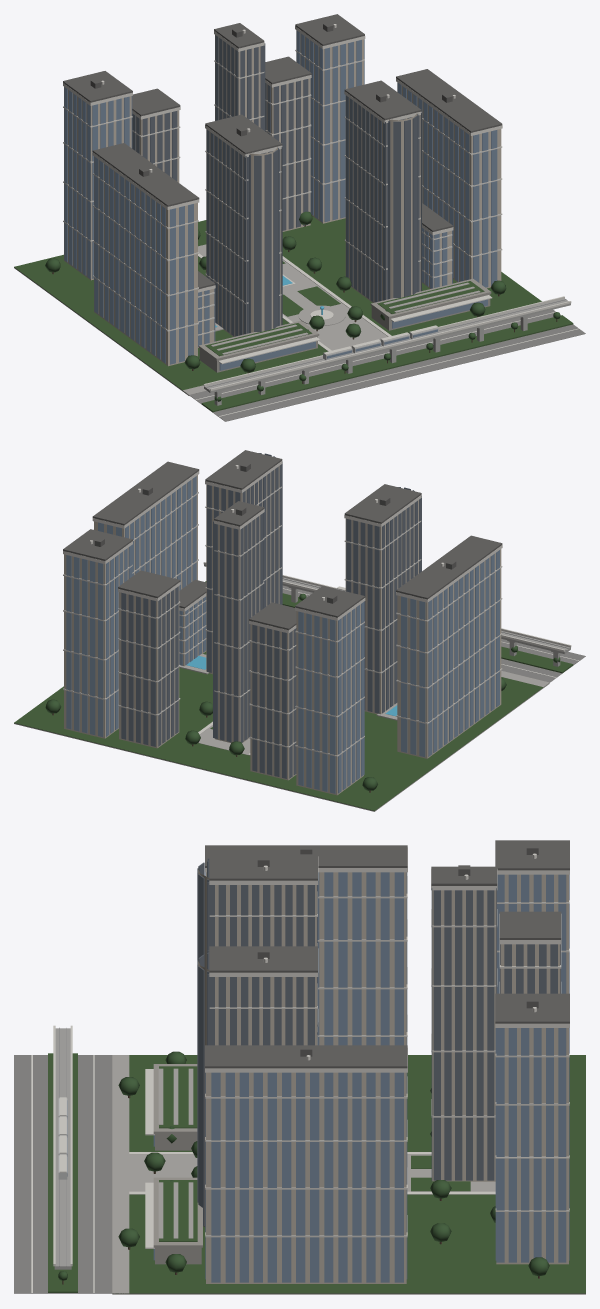
Rendered from khu-can-ho.glb.
The picture shows the model from 3 angles, top to bottom: view 1: azimuth 30°, elevation 25°; view 2: azimuth 150°, elevation 25°; view 3: azimuth 270°, elevation 25°; orthographic projection. The views are drawn at different scales.
Parts seen in each view (by area): view 1: khu_can_ho; view 2: khu_can_ho; view 3: khu_can_ho.
Part boxes in pixels (x1,y1,x2,y2): khu_can_ho: [14, 14, 585, 421]; khu_can_ho: [14, 450, 585, 811]; khu_can_ho: [14, 840, 585, 1294].
Size of the model in its own units: 264 by 159 by 268.
